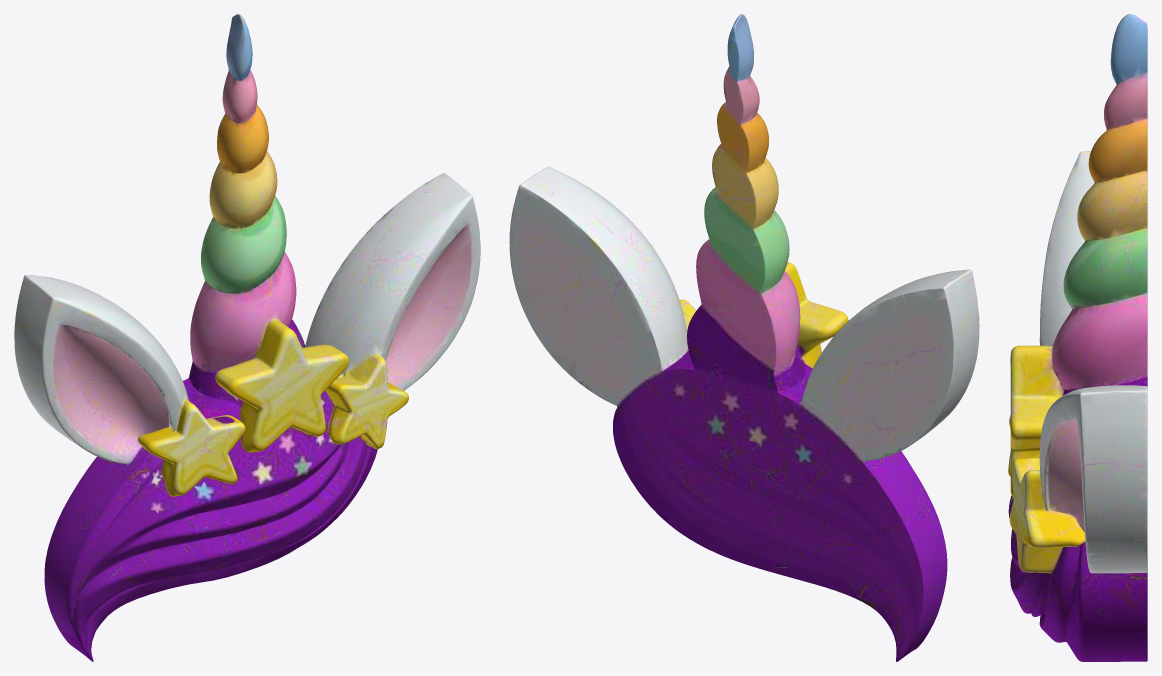
The picture shows the model from 3 angles, left to right: view 1: azimuth 30°, elevation 25°; view 2: azimuth 150°, elevation 25°; view 3: azimuth 270°, elevation 25°; orthographic projection. The views are drawn at different scales.
Size of the model in its own units: 1.47 by 1.9 by 0.3396.
Materials: 1 (1 with a texture image).
